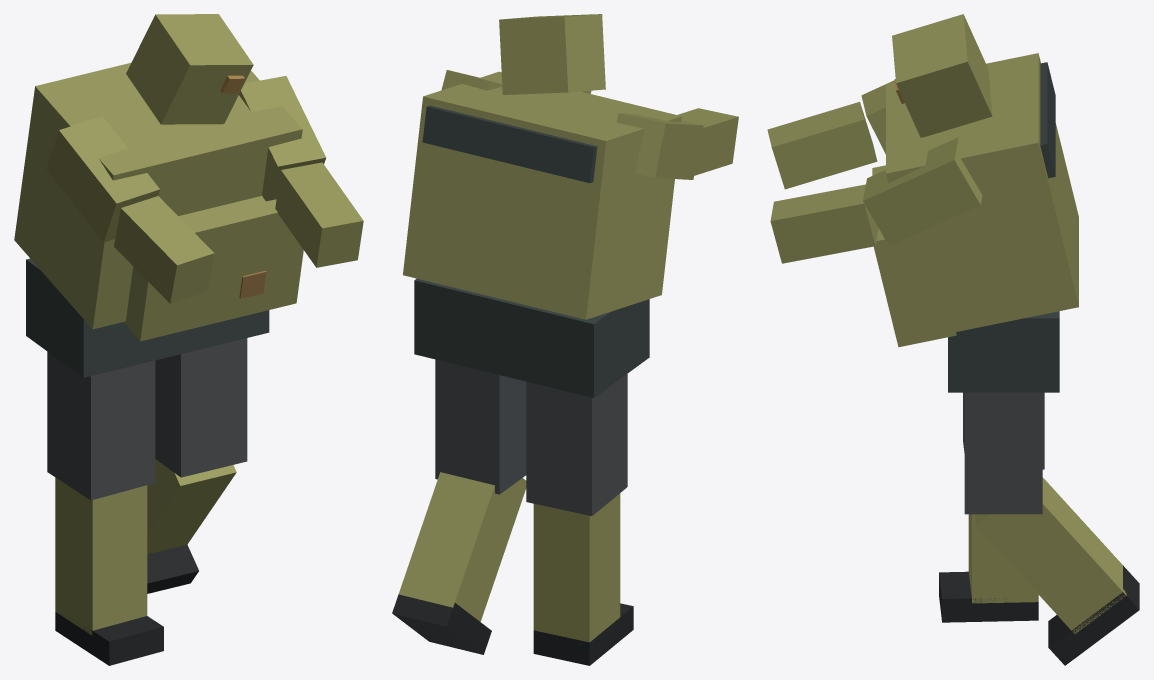
Rendered from zombie_bloater_b.glb.
3 views of the same model, side by side, from view 1: azimuth 30°, elevation 25°; view 2: azimuth 150°, elevation 25°; view 3: azimuth 270°, elevation 25° (orthographic). The views are drawn at different scales.
Parts seen in each view (by area): view 1: zombie_bloater_b; view 2: zombie_bloater_b; view 3: zombie_bloater_b.
Boxes of the visible parts, x1,y1,x2,y2 form: zombie_bloater_b: (14, 14, 363, 665); zombie_bloater_b: (392, 14, 738, 665); zombie_bloater_b: (767, 14, 1139, 665).
Size of the model in its own units: 0.6692 by 1.76 by 0.9708.
